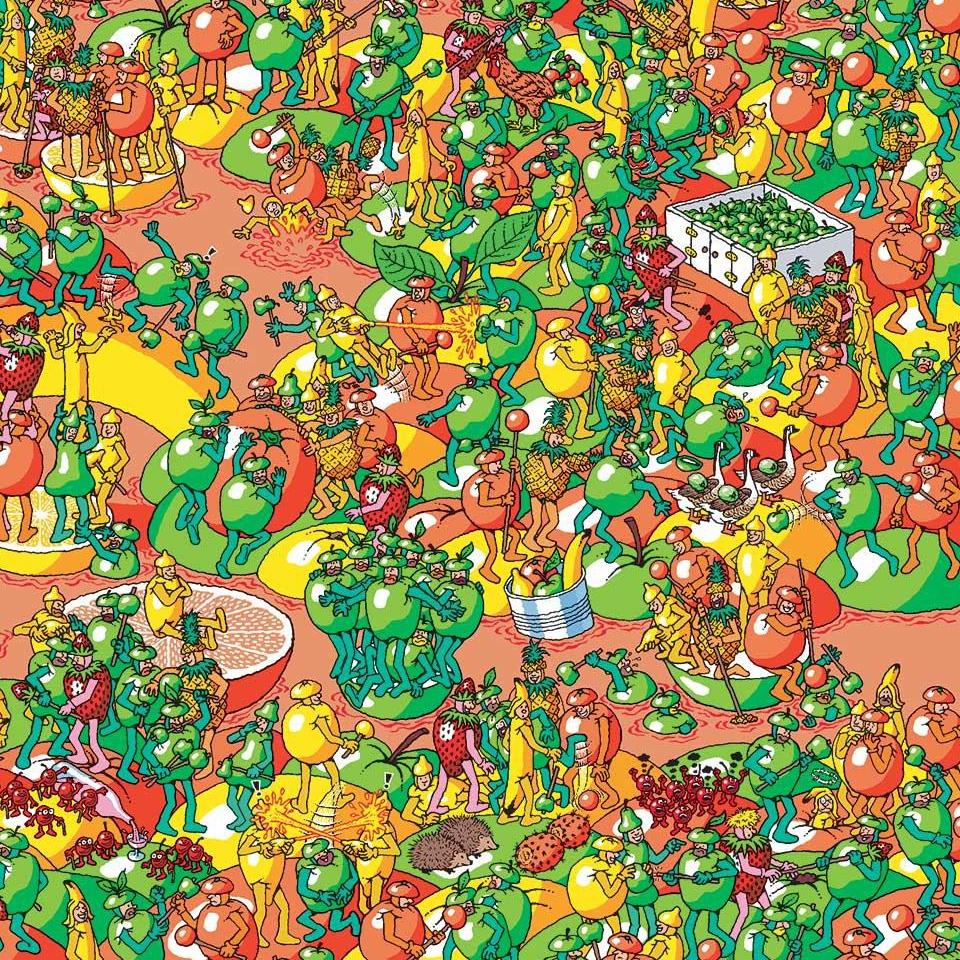waldo: (620, 296, 646, 325)
